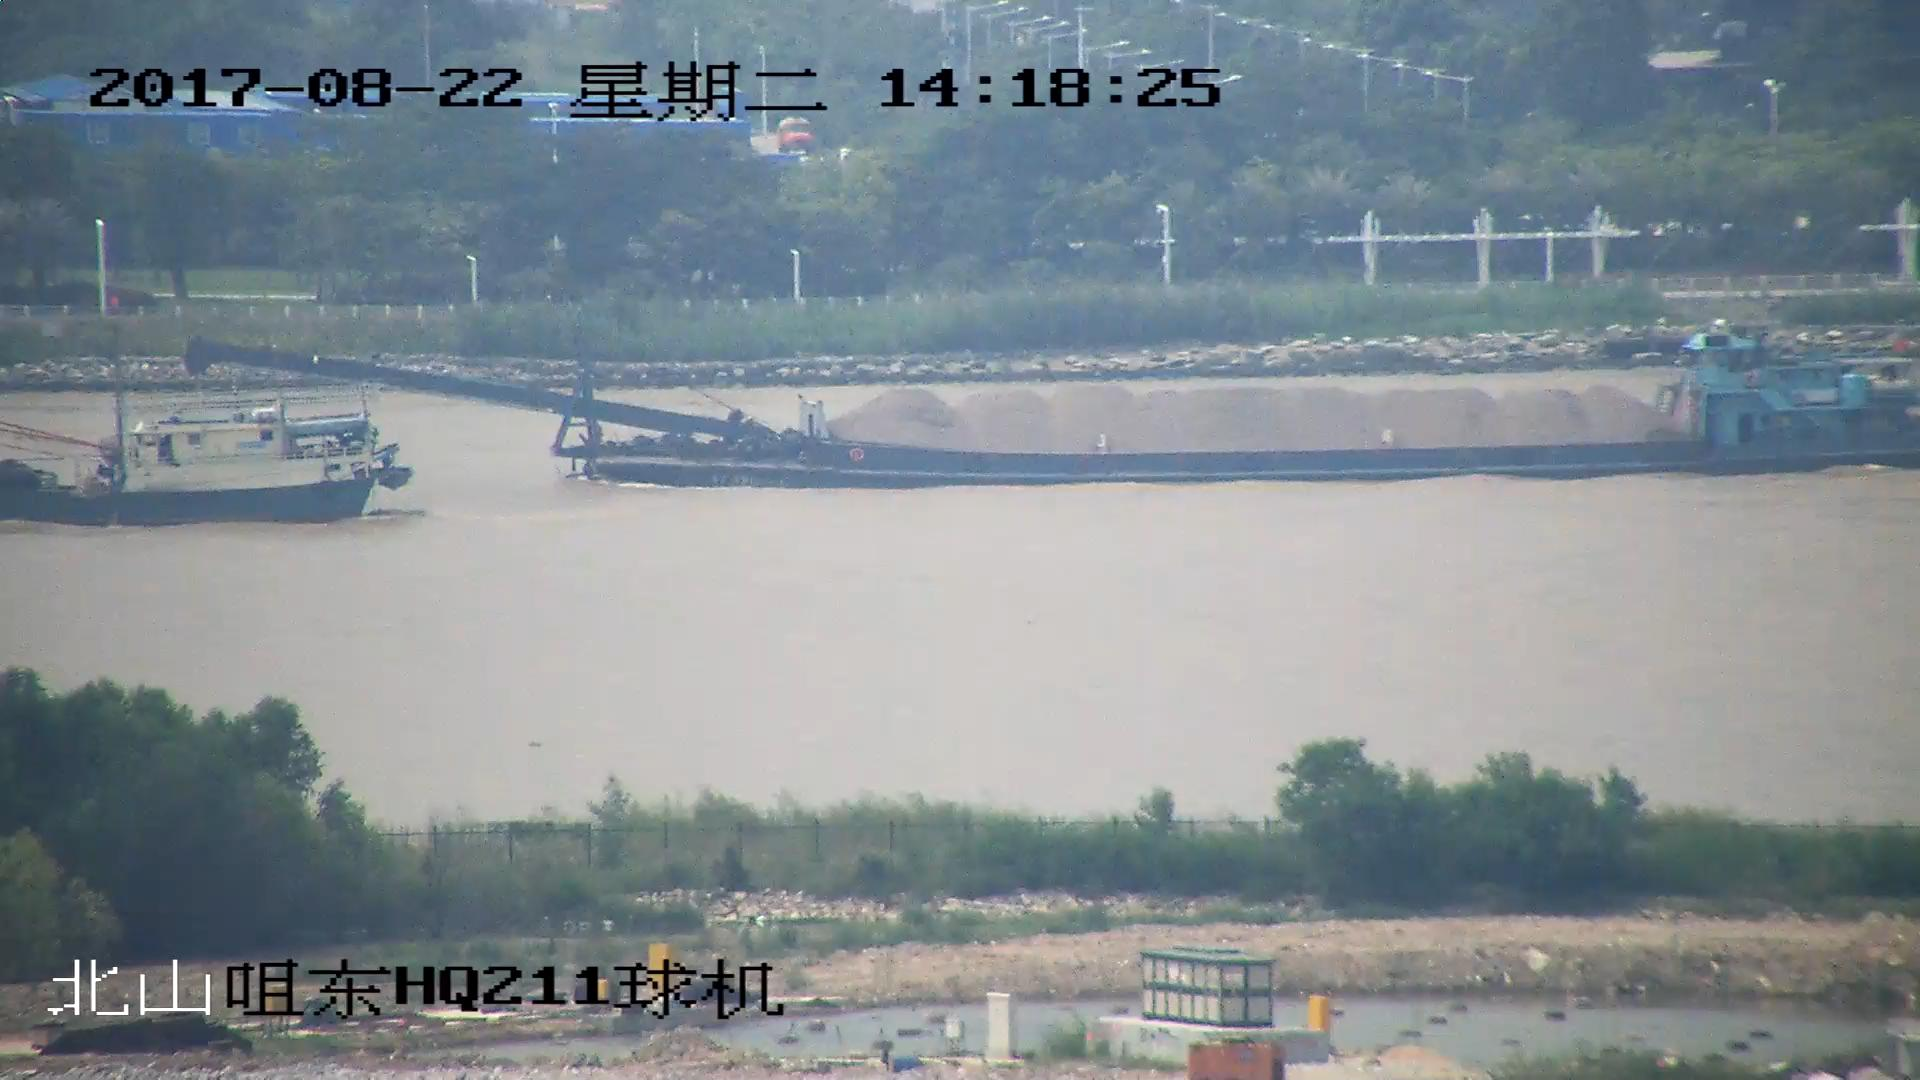fishing boat: (1, 291, 419, 524)
ore carrier: (187, 325, 1920, 491)
